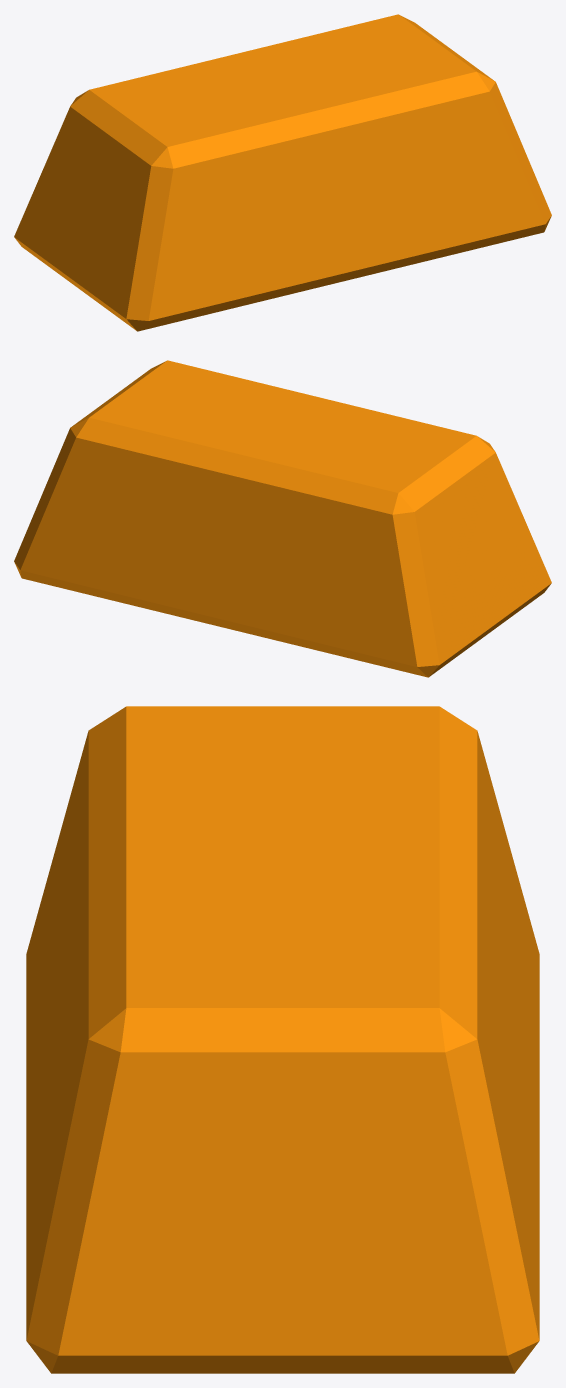
The model's file is PROP_gold_bar__v001__model.fbx.
The picture shows the model from 3 angles, top to bottom: view 1: azimuth 30°, elevation 25°; view 2: azimuth 150°, elevation 25°; view 3: azimuth 270°, elevation 25°; orthographic projection. The views are drawn at different scales.
Visible parts, largest first — view 1: Ingot; view 2: Ingot; view 3: Ingot.
Part boxes in pixels (x1,y1,x2,y2): Ingot: (14,14,551,331); Ingot: (14,360,551,677); Ingot: (26,706,539,1373).
Size of the model in its own units: 0.7847 by 0.28 by 0.4095.
Materials: 1 (1 with a texture image).
